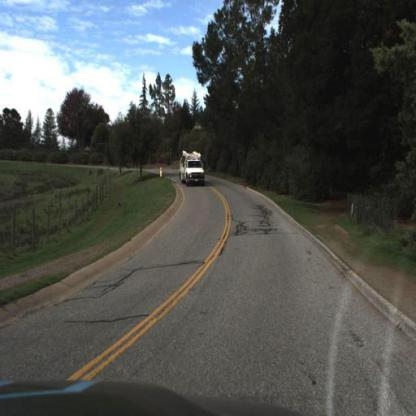car: (173, 145, 209, 193), (180, 149, 205, 186)
